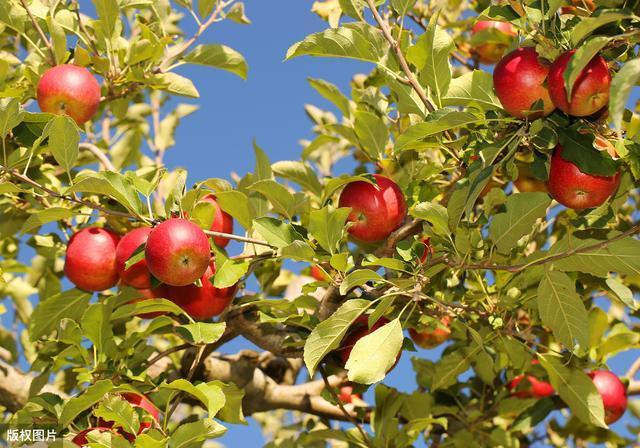apple: (328, 173, 406, 245), (163, 249, 237, 317), (492, 48, 562, 117), (144, 217, 212, 286), (546, 148, 619, 210), (34, 63, 101, 125), (63, 225, 118, 292), (582, 370, 626, 423)
